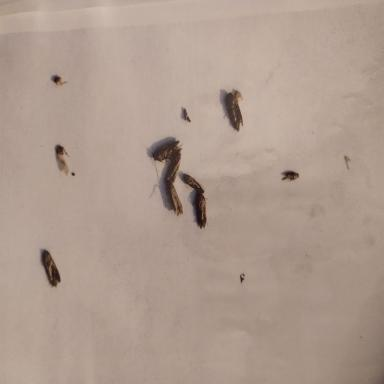pbw: (222, 87, 248, 139), (34, 247, 66, 289), (148, 136, 184, 168), (162, 146, 187, 186), (191, 188, 210, 236), (163, 180, 185, 221), (178, 169, 208, 197), (279, 167, 301, 185)
